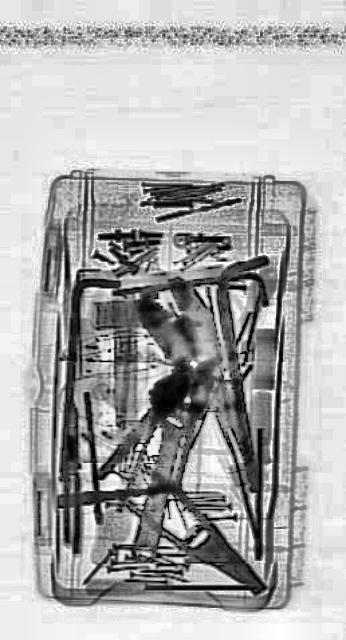Pliers: (122, 449, 270, 615)
Wrench: (116, 361, 202, 573)
